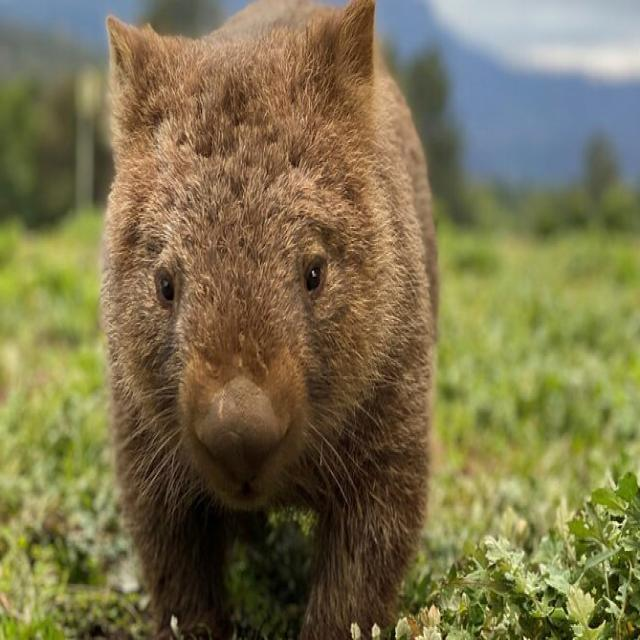wombats: (102, 0, 439, 639)
